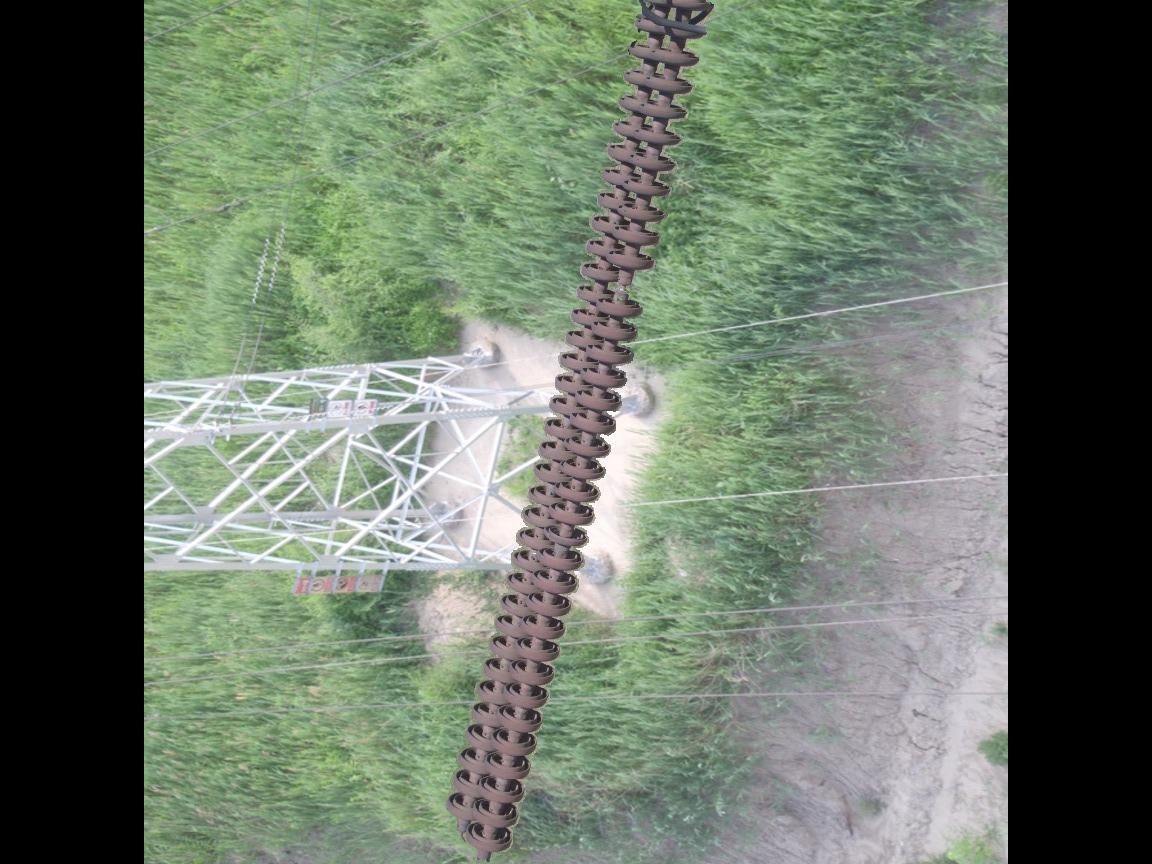insulator: (442, 1, 715, 858)
insulator_stringdrop: (592, 247, 658, 322)
